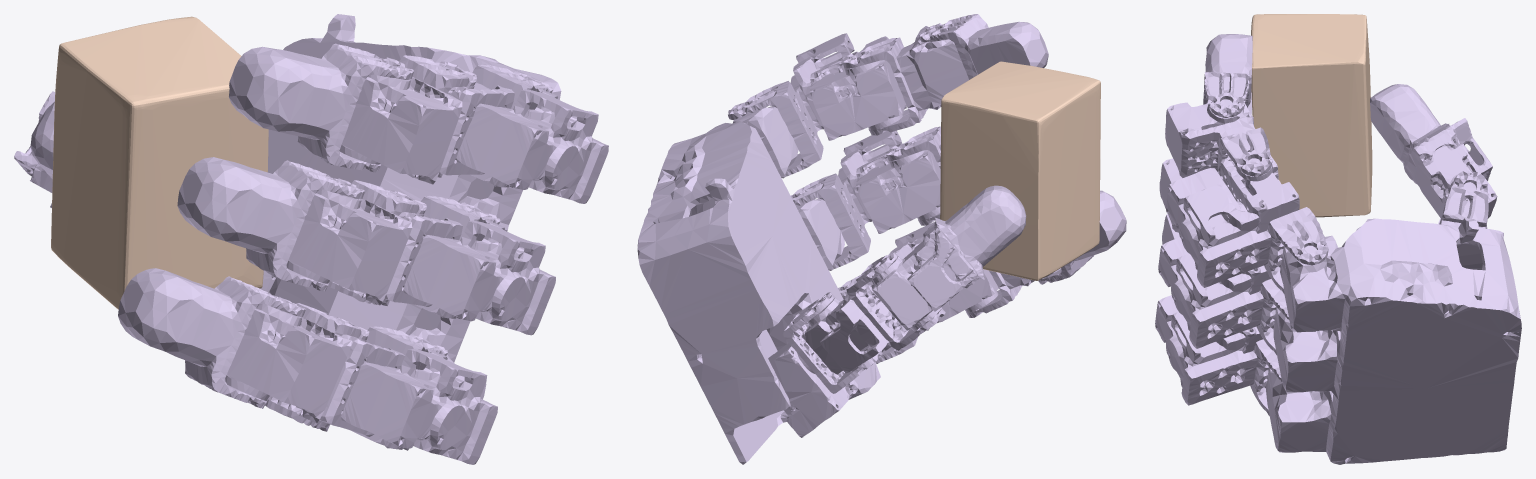
3 views of the same model, side by side, from view 1: azimuth 30°, elevation 25°; view 2: azimuth 150°, elevation 25°; view 3: azimuth 270°, elevation 25° (orthographic). The views are drawn at different scales.
Parts seen in each view (by area): view 1: LEAP_hand, world; view 2: LEAP_hand, world; view 3: LEAP_hand, world.
Boxes of the visible parts, x1=… form: LEAP_hand: x1=14, y1=14, x2=608, y2=464; world: x1=51, y1=16, x2=268, y2=309; LEAP_hand: x1=637, y1=14, x2=1126, y2=464; world: x1=940, y1=61, x2=1100, y2=280; LEAP_hand: x1=1155, y1=34, x2=1521, y2=464; world: x1=1251, y1=14, x2=1372, y2=217.
Size of the model in its own units: 0.1887 by 0.1736 by 0.163.
